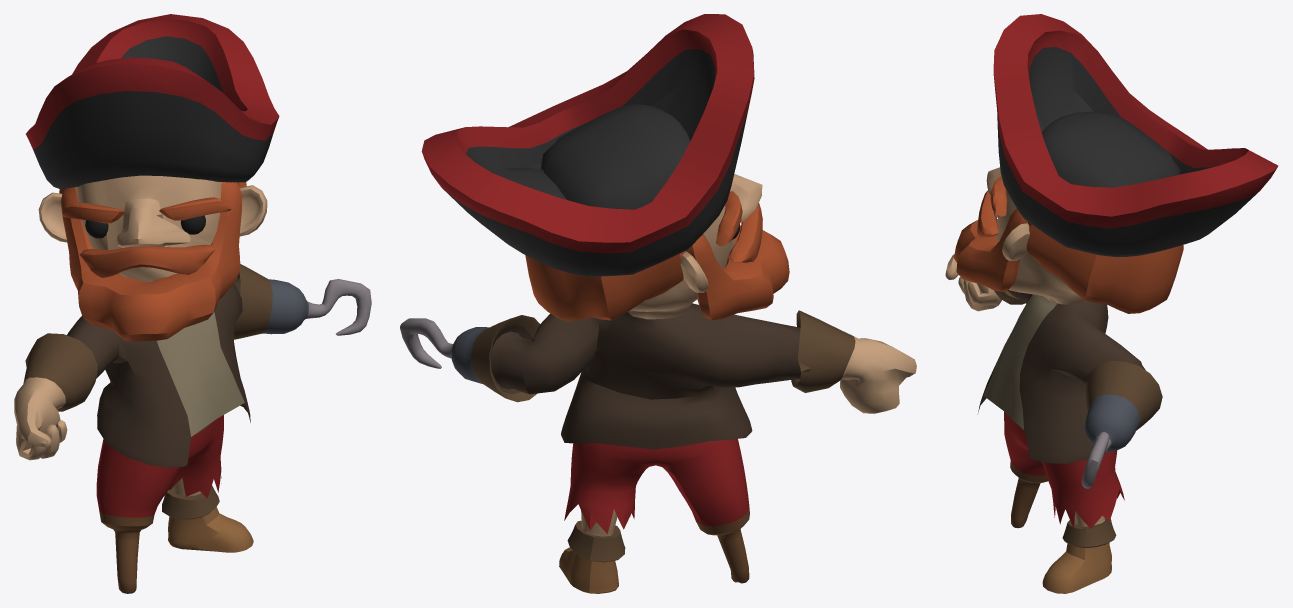
File: PiratewithoutB.fbx
3 renders of one model, left to right at view 1: azimuth 30°, elevation 25°; view 2: azimuth 150°, elevation 25°; view 3: azimuth 270°, elevation 25°, orthographic. The views are drawn at different scales.
Parts seen in each view (by area): view 1: Captain_Barbarossa; view 2: Captain_Barbarossa; view 3: Captain_Barbarossa.
Part boxes in pixels (<box>): Captain_Barbarossa: <box>14,14,371,593</box>; Captain_Barbarossa: <box>400,14,916,593</box>; Captain_Barbarossa: <box>945,14,1278,593</box>.
Size of the model in its own units: 151 by 185 by 109.
